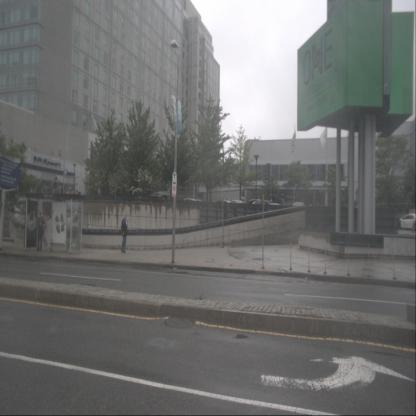human-pedestrian-adult: (37, 212, 45, 252), (121, 213, 128, 254)
vehicle-car: (396, 214, 416, 230)
